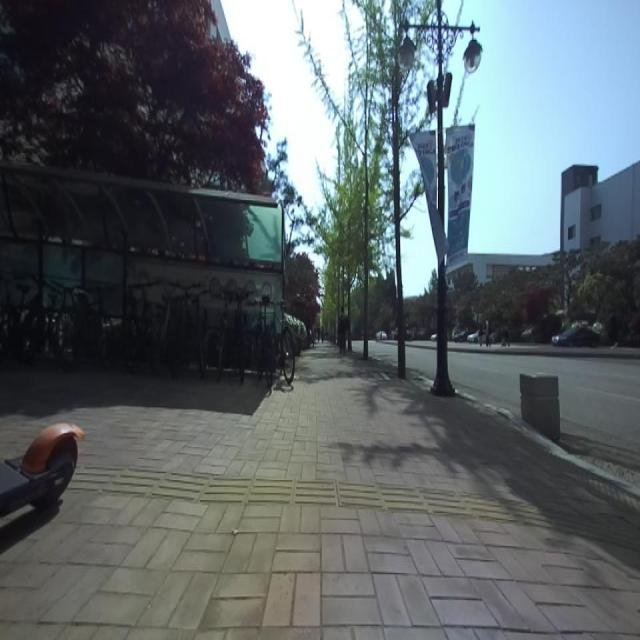sidewalk: (0, 340, 640, 638)
